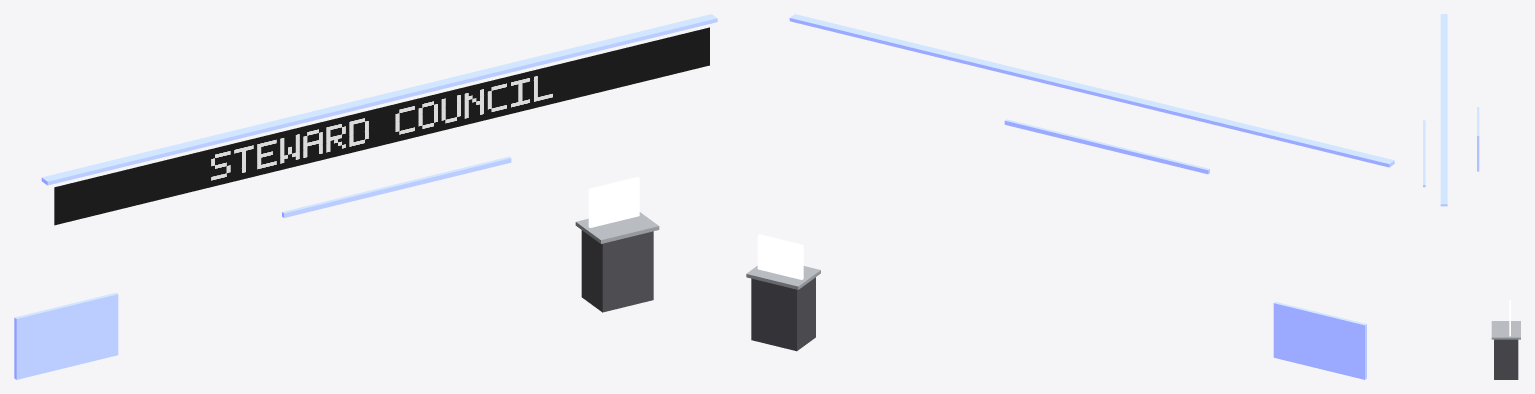
Rendered from room-autonomous-organizations-6.glb.
3 views of the same model, side by side, from view 1: azimuth 30°, elevation 25°; view 2: azimuth 150°, elevation 25°; view 3: azimuth 270°, elevation 25° (orthographic). The views are drawn at different scales.
Parts seen in each view (by area): view 1: Autonomous Organizations Steward Council room; view 2: Autonomous Organizations Steward Council room; view 3: Autonomous Organizations Steward Council room.
Boxes of the visible parts, <box> form: Autonomous Organizations Steward Council room: <box>14,14,717,379</box>; Autonomous Organizations Steward Council room: <box>746,14,1394,379</box>; Autonomous Organizations Steward Council room: <box>1423,14,1520,379</box>.
Bounding box in the file's own units: 9.2 × 4.08 × 2.
Materials: 5 (1 with a texture image).
